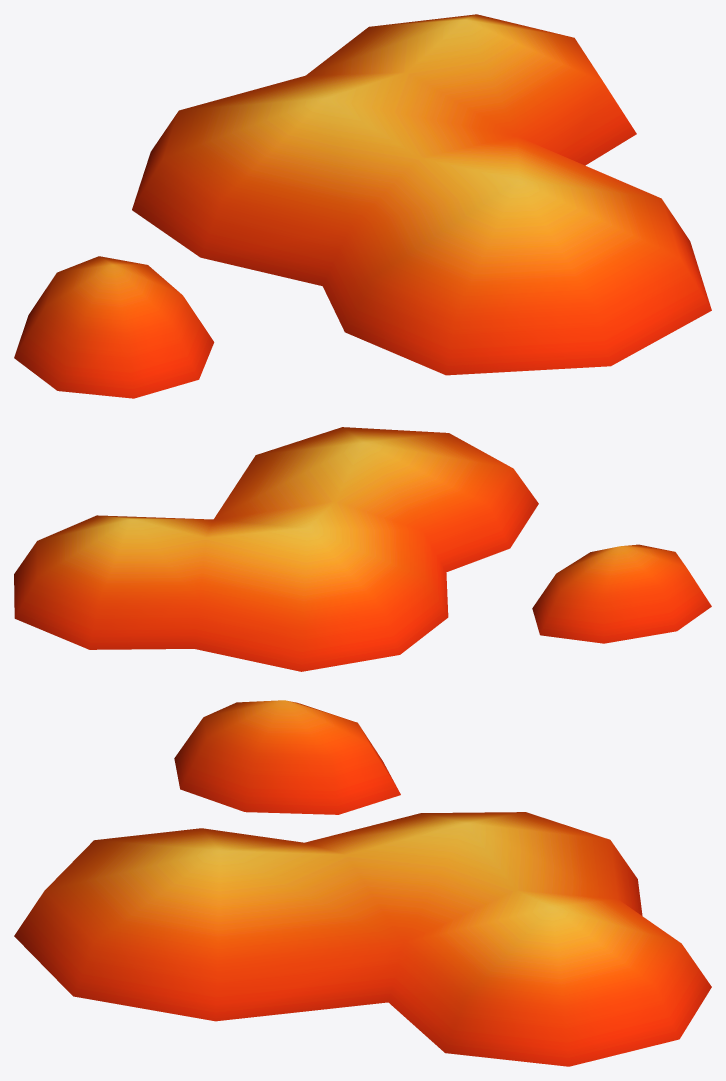
File: m_LavaPuddle01.fbx
3 renders of one model, top to bottom at view 1: azimuth 30°, elevation 25°; view 2: azimuth 150°, elevation 25°; view 3: azimuth 270°, elevation 25°, orthographic. The views are drawn at different scales.
Parts seen in each view (by area): view 1: m_LavaPuddle01; view 2: m_LavaPuddle01; view 3: m_LavaPuddle01.
Part boxes in pixels (box(x1,y1,x2,y2)): m_LavaPuddle01: box(14, 14, 711, 398); m_LavaPuddle01: box(14, 427, 711, 671); m_LavaPuddle01: box(14, 700, 711, 1066).
Size of the model in its own units: 232 by 30.5 by 206.
